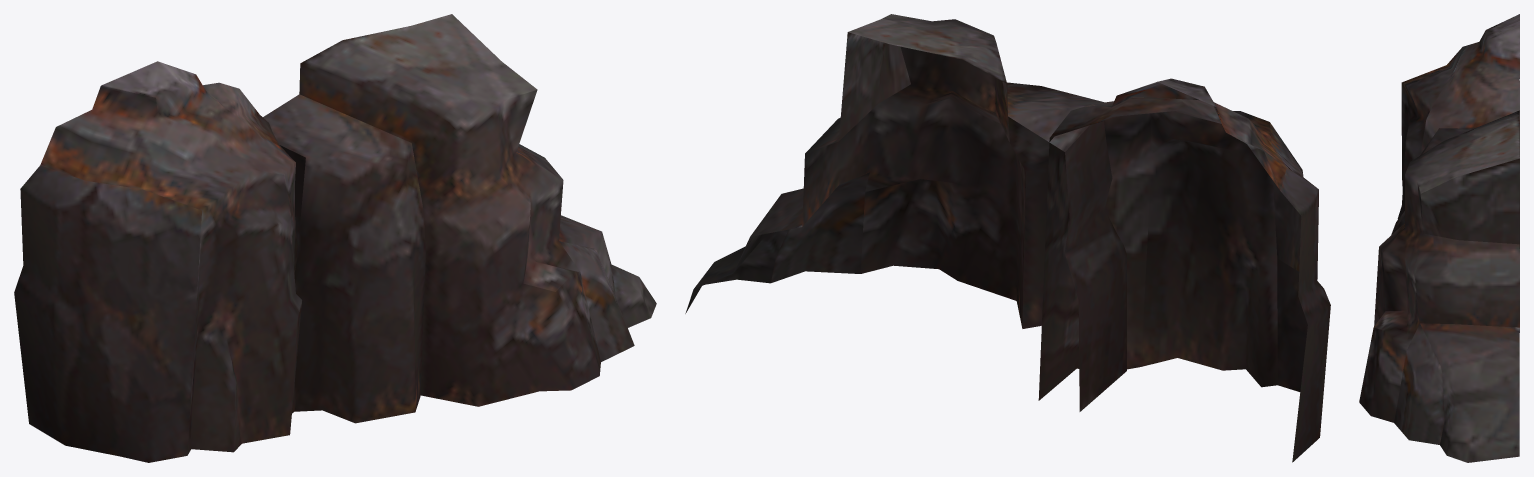
Rendered from tlfb03_shitou_01.FBX.
3 views of the same model, side by side, from view 1: azimuth 30°, elevation 25°; view 2: azimuth 150°, elevation 25°; view 3: azimuth 270°, elevation 25° (orthographic). The views are drawn at different scales.
Visible parts, largest first — view 1: tlfb03_shitou_01; view 2: tlfb03_shitou_01; view 3: tlfb03_shitou_01.
Boxes of the visible parts, x1,y1,x2,y2 form: tlfb03_shitou_01: (14,14,656,462); tlfb03_shitou_01: (685,14,1330,462); tlfb03_shitou_01: (1359,14,1519,462).
Bounding box in the file's own units: 830 × 433 × 243.
